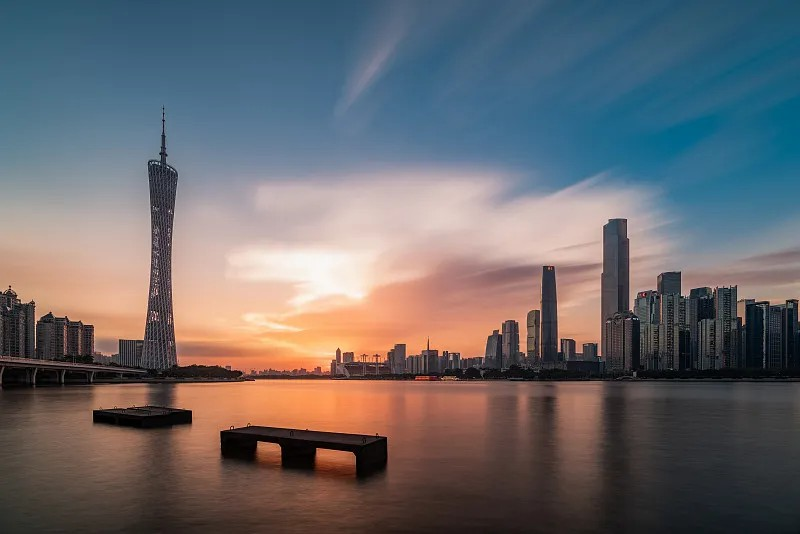Canton: (138, 102, 180, 371)
